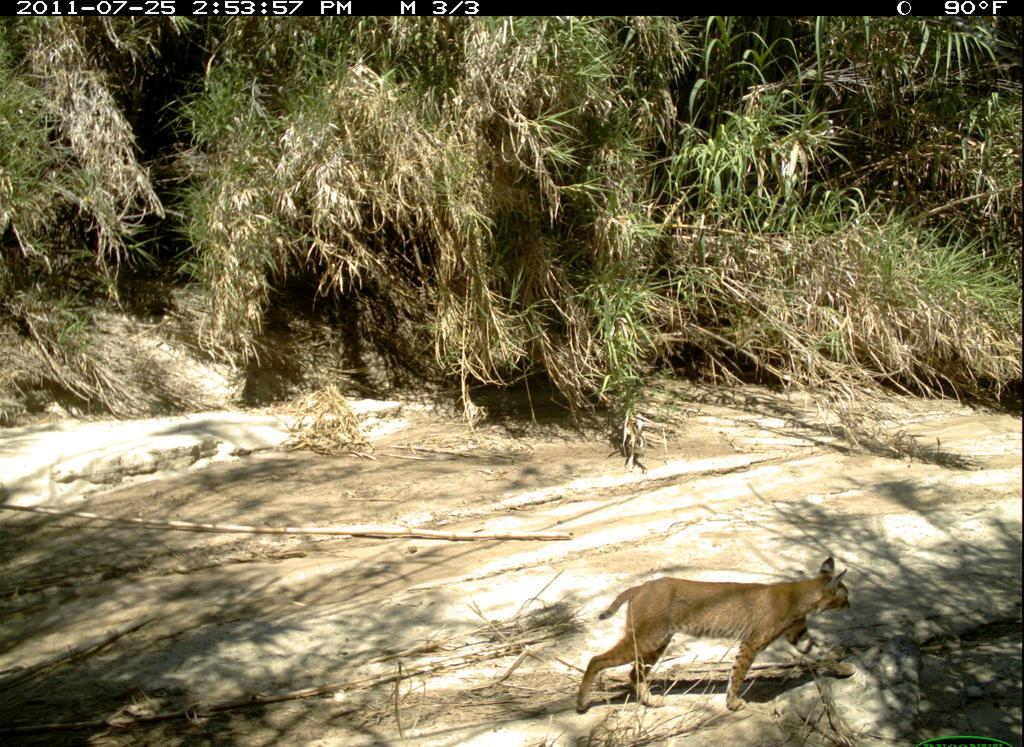bobcat: (571, 553, 863, 722)
